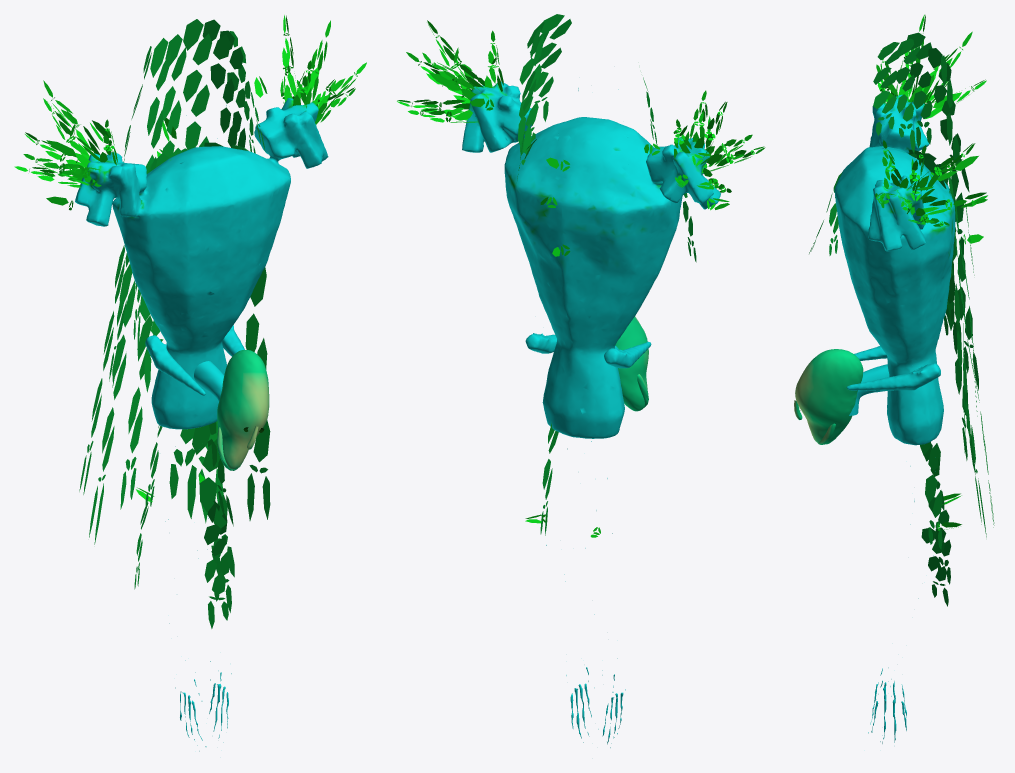
Rendered from stalker.glb.
The picture shows the model from 3 angles, left to right: view 1: azimuth 30°, elevation 25°; view 2: azimuth 150°, elevation 25°; view 3: azimuth 270°, elevation 25°; orthographic projection. The views are drawn at different scales.
Parts seen in each view (by area): view 1: Upper, Lower, Head, ArmR, ArmL; view 2: Upper, Lower, Head, ArmR; view 3: Upper, Lower, Head, ArmL, ArmR.
Boxes of the visible parts, box(x1,y1,x2,y2) form: Upper: box(14, 15, 366, 544); Lower: box(123, 19, 265, 395); Head: box(194, 350, 269, 470); ArmR: box(192, 422, 234, 742); ArmL: box(134, 425, 206, 751); Upper: box(397, 20, 765, 438); Lower: box(517, 14, 657, 368); Head: box(615, 316, 648, 411); ArmR: box(525, 423, 598, 742); Upper: box(809, 14, 994, 537); Lower: box(846, 32, 974, 390); Head: box(794, 349, 889, 444); ArmL: box(868, 442, 961, 741); ArmR: box(871, 522, 961, 743).
Size of the model in its own units: 1.37 by 2.7 by 0.7161.
